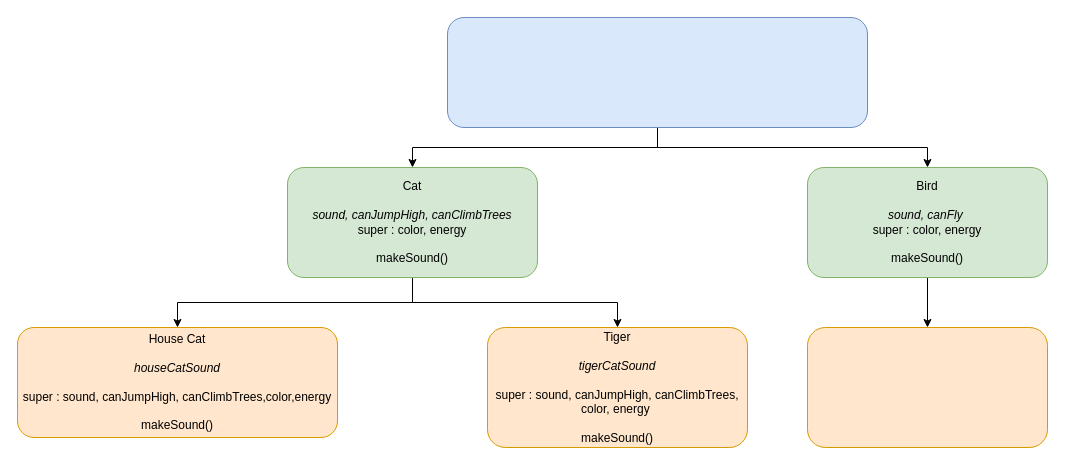
Some shapes in this 1065 by 465 pixel diagram are drawn without their labels. The shapes that lost their labels are listed below. From the top down, each one's centre as x and y in pixels, then its label:
[657,72]: Animal Color , Energy isActive() sleep() getColor()
[927,387]: Parrot can Talk super : sound, canFly, color, energy makeSound()
